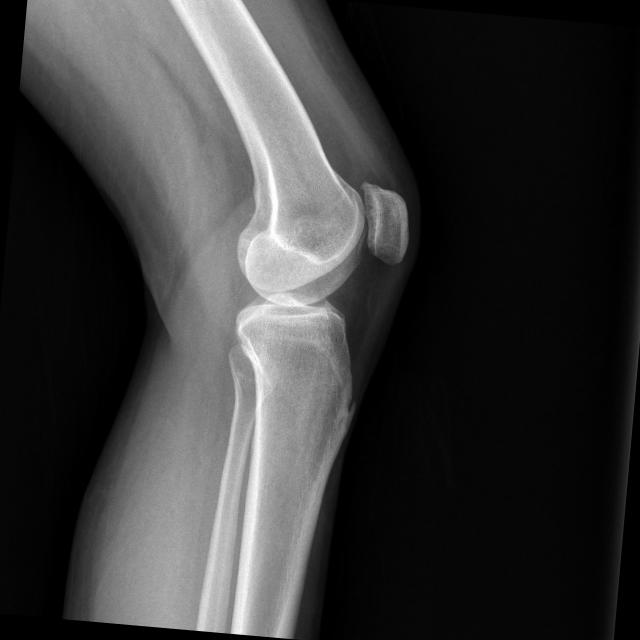Knee: (218, 165, 414, 378)
